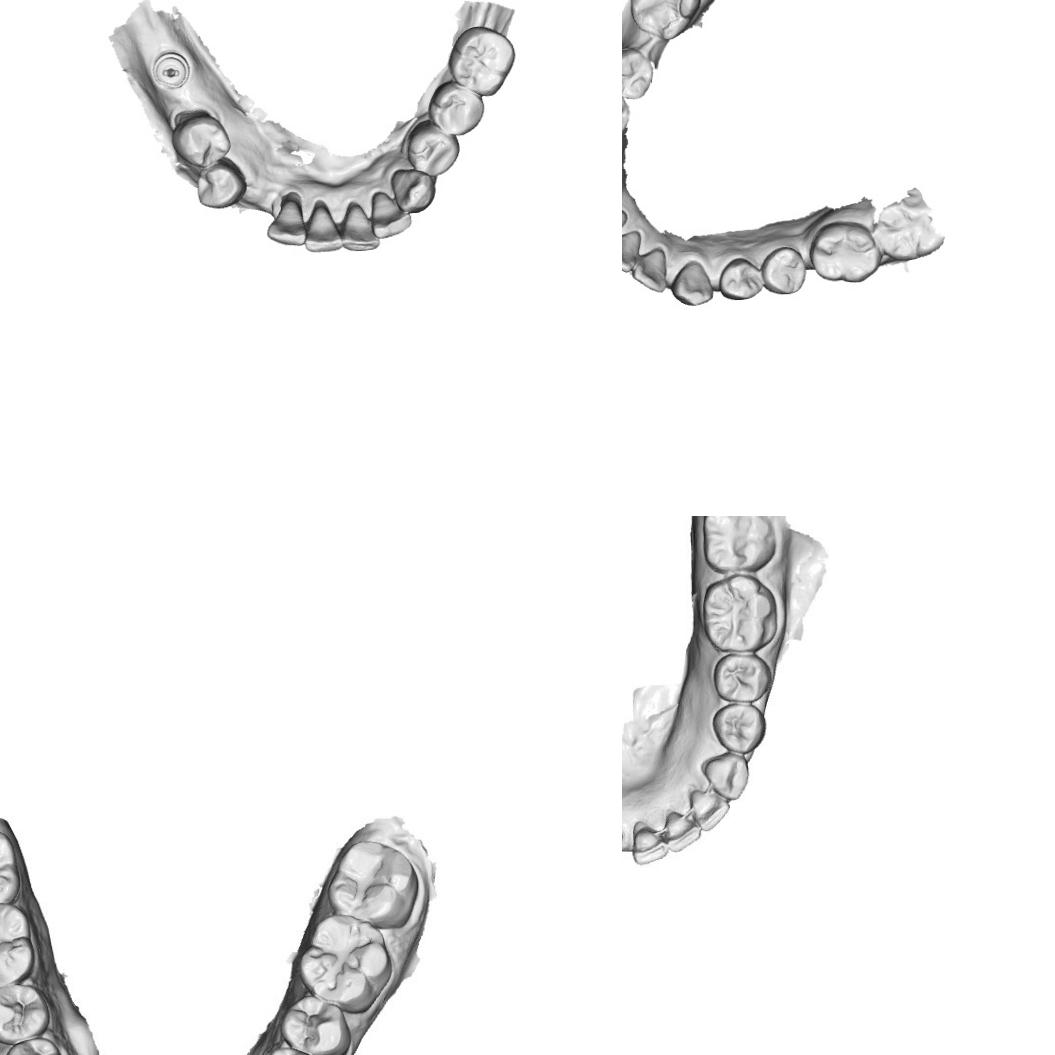canine: (698, 752, 752, 802), (668, 258, 714, 308), (390, 167, 438, 214)
implant_minus: (146, 42, 201, 96)
incisor: (265, 190, 308, 248), (300, 198, 344, 253), (341, 196, 380, 250), (370, 190, 412, 239), (625, 822, 668, 868), (630, 245, 669, 294), (690, 789, 732, 833), (662, 808, 702, 854), (622, 229, 642, 274)
molar: (298, 915, 388, 1002), (328, 838, 411, 925), (700, 574, 779, 652), (446, 24, 516, 98), (807, 218, 882, 285), (698, 516, 777, 574), (875, 201, 940, 262), (0, 904, 38, 991), (628, 0, 704, 42), (0, 825, 23, 909)
premolar: (282, 995, 348, 1055), (168, 110, 232, 170), (426, 78, 486, 137), (404, 117, 461, 179), (710, 652, 774, 704), (710, 700, 769, 756), (0, 983, 48, 1041), (195, 158, 247, 210), (759, 244, 808, 296), (716, 256, 764, 302), (622, 46, 655, 100), (2, 1031, 63, 1055)
